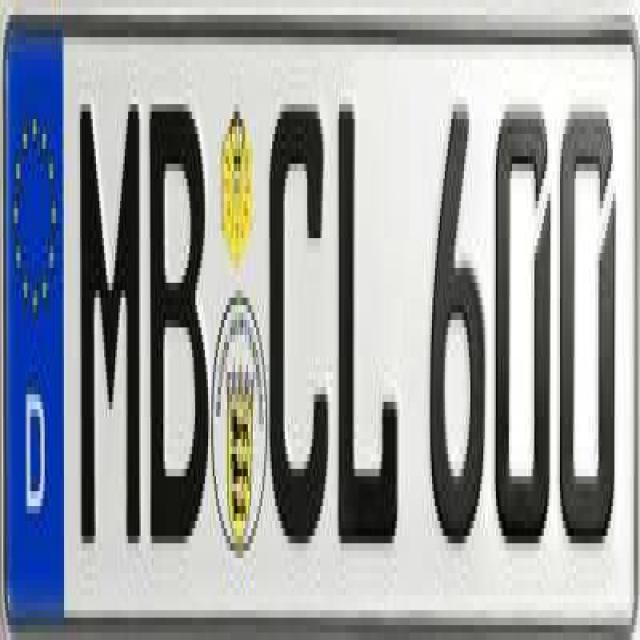Allemagne: (4, 38, 63, 629)
EU: (4, 33, 634, 624)
